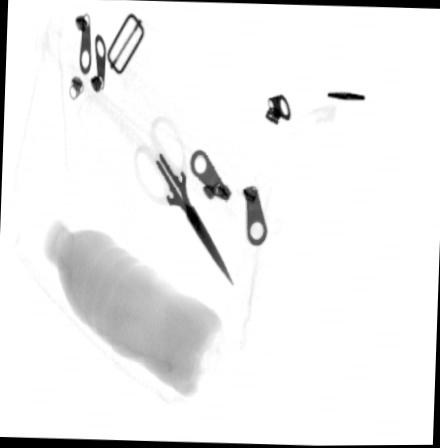Scissors: (131, 116, 233, 288)
